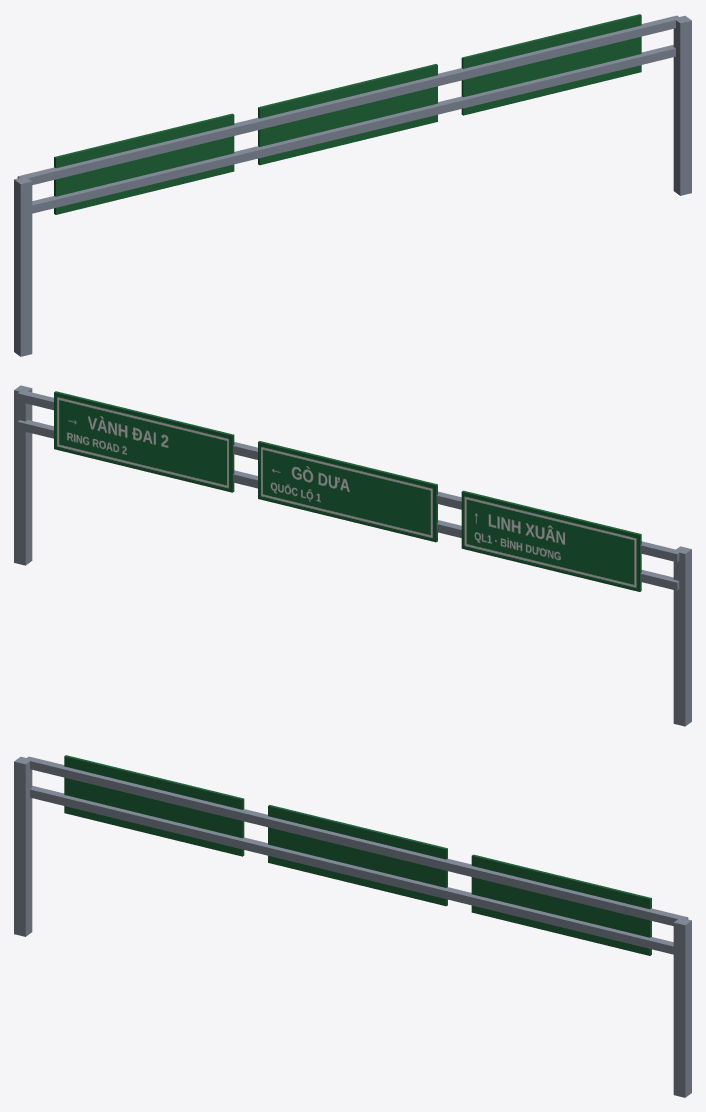
The model's file is sign_gantry_outbound.glb.
3 renders of one model, top to bottom at view 1: azimuth 30°, elevation 25°; view 2: azimuth 150°, elevation 25°; view 3: azimuth 330°, elevation 25°, orthographic.
Visible parts, largest first — view 1: gantry; view 2: gantry; view 3: gantry.
Part boxes in pixels (bbox=[...]): gantry: bbox=[14, 14, 691, 356]; gantry: bbox=[14, 385, 691, 726]; gantry: bbox=[14, 755, 691, 1097].
Bounding box in the file's own units: 34.6 × 9 × 0.85.
Materials: 5 (1 with a texture image).
